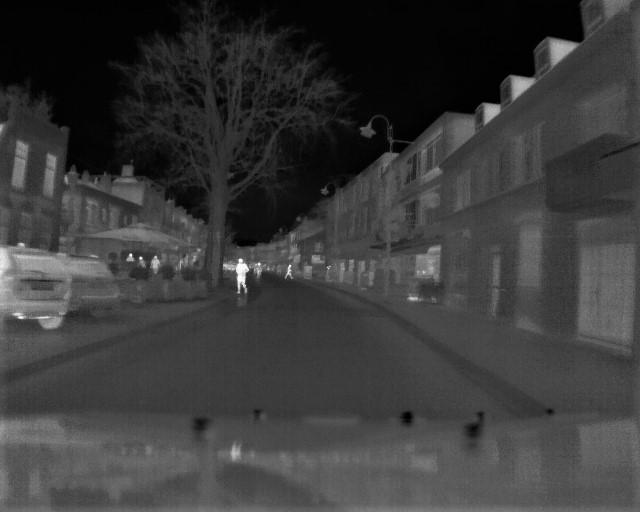car: (1, 246, 75, 331)
person: (234, 255, 251, 297), (284, 262, 295, 282), (151, 254, 160, 276), (255, 260, 263, 280), (125, 250, 136, 264), (137, 254, 146, 270)
